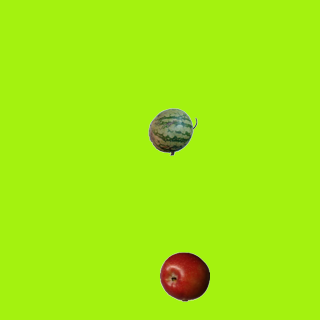Apple Braeburn: (159, 251, 209, 301)
Watermelon: (147, 106, 197, 156)
